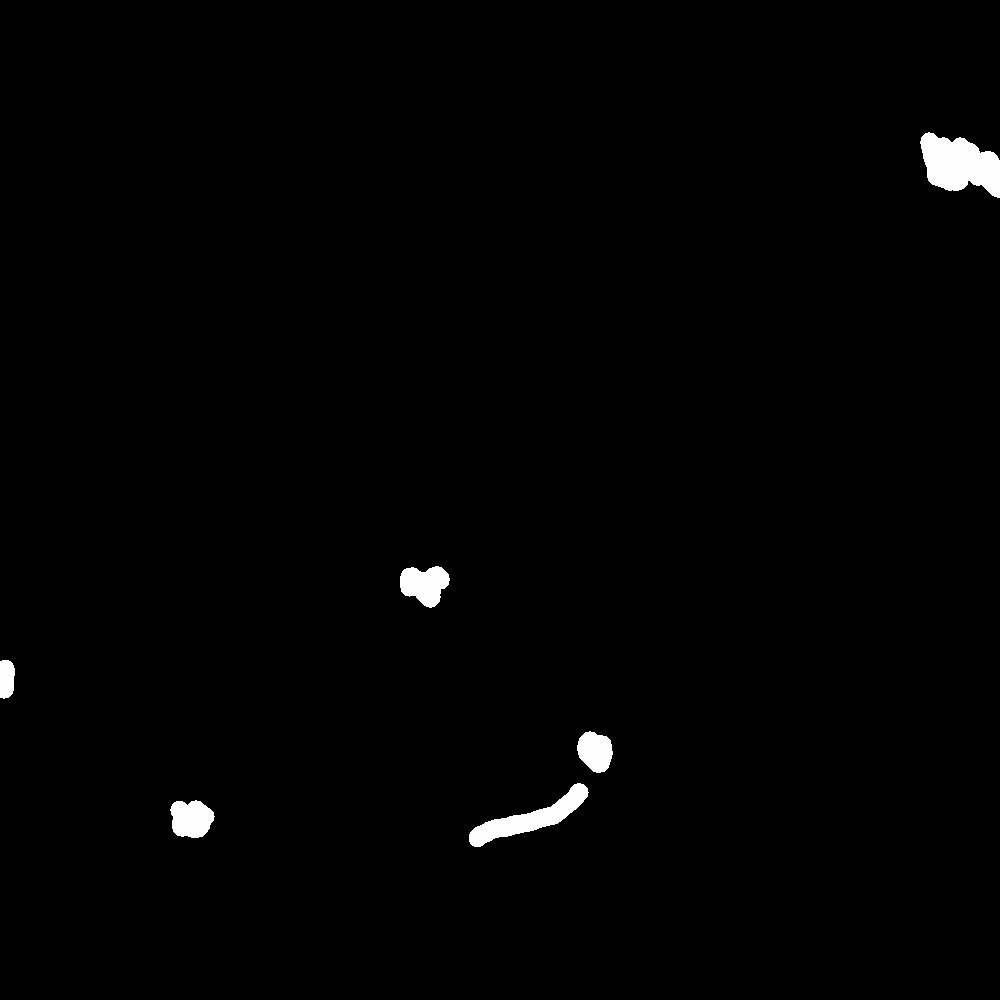illegal: (163, 807, 205, 842), (402, 567, 446, 594)
